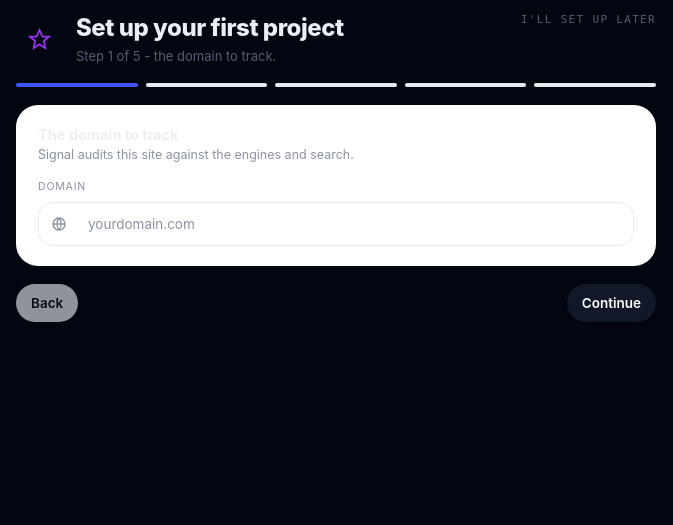
Scenario: OnboardingWizard › keeps the entered domain and selections after a failed create
Type "acme.com" into the field with placeholder "yourdomain.com" at (348, 224), box x1=76 y1=212 x2=621 y2=236
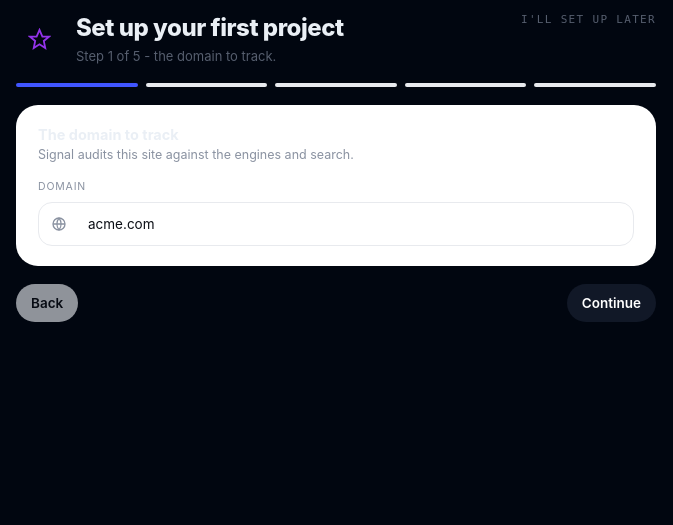
Click the button "Continue" at (611, 303), box x1=567 y1=284 x2=656 y2=322
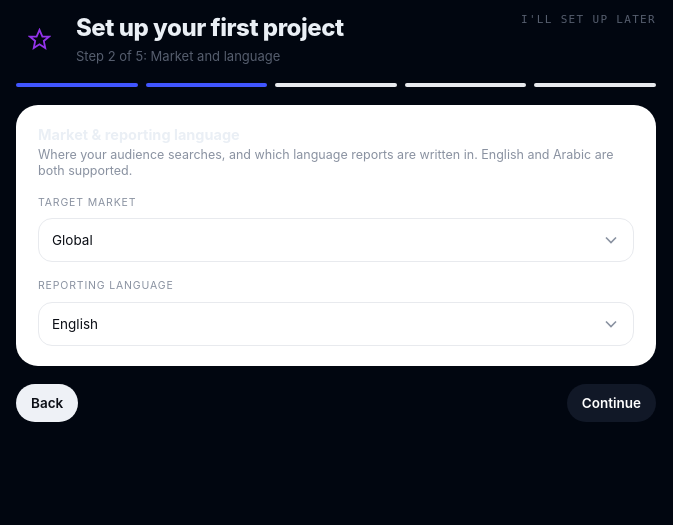
Select "United States" in the dropdown showing "Global" at (336, 240), box x1=38 y1=218 x2=634 y2=262
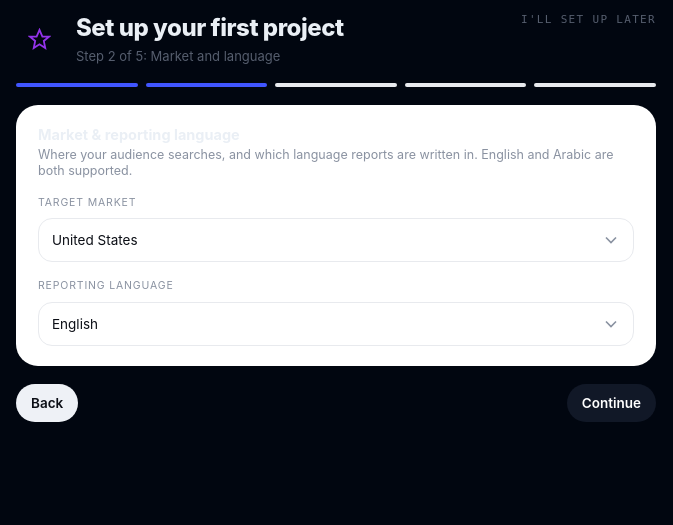
Click the button "Continue" at (611, 403), box x1=567 y1=384 x2=656 y2=422
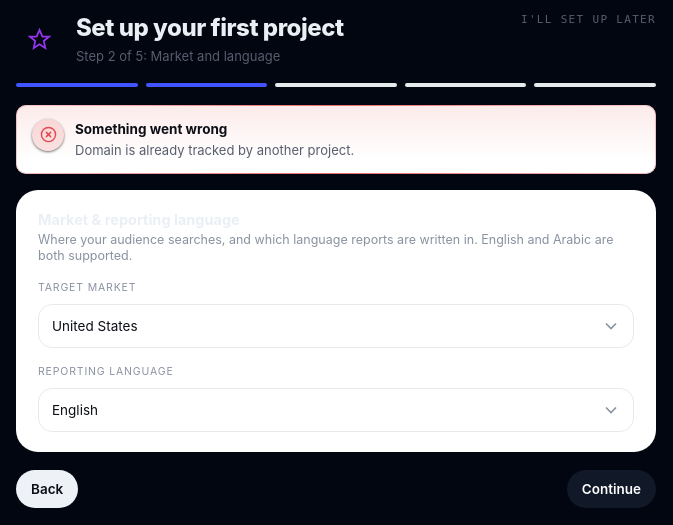
Expected: the message shows "Domain is already tracked by another project.", x1=75 y1=142 x2=354 y2=158
Click the button "Back" at (47, 489), box x1=16 y1=470 x2=78 y2=508
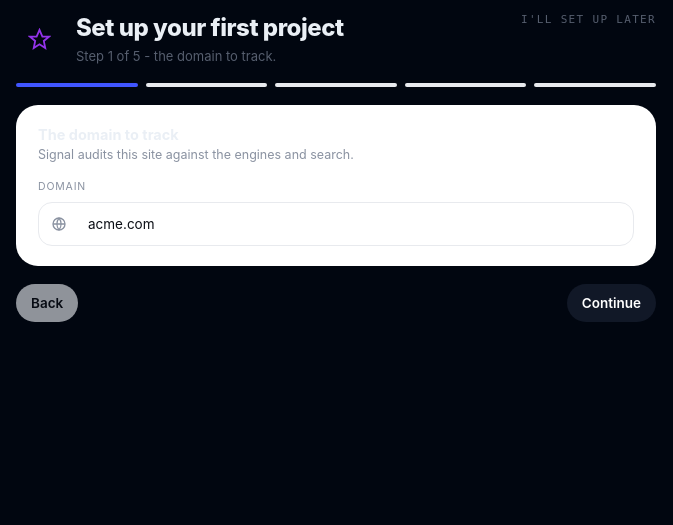
Expected: the field with placeholder "yourdomain.com" holds "acme.com", x1=76 y1=212 x2=621 y2=236
